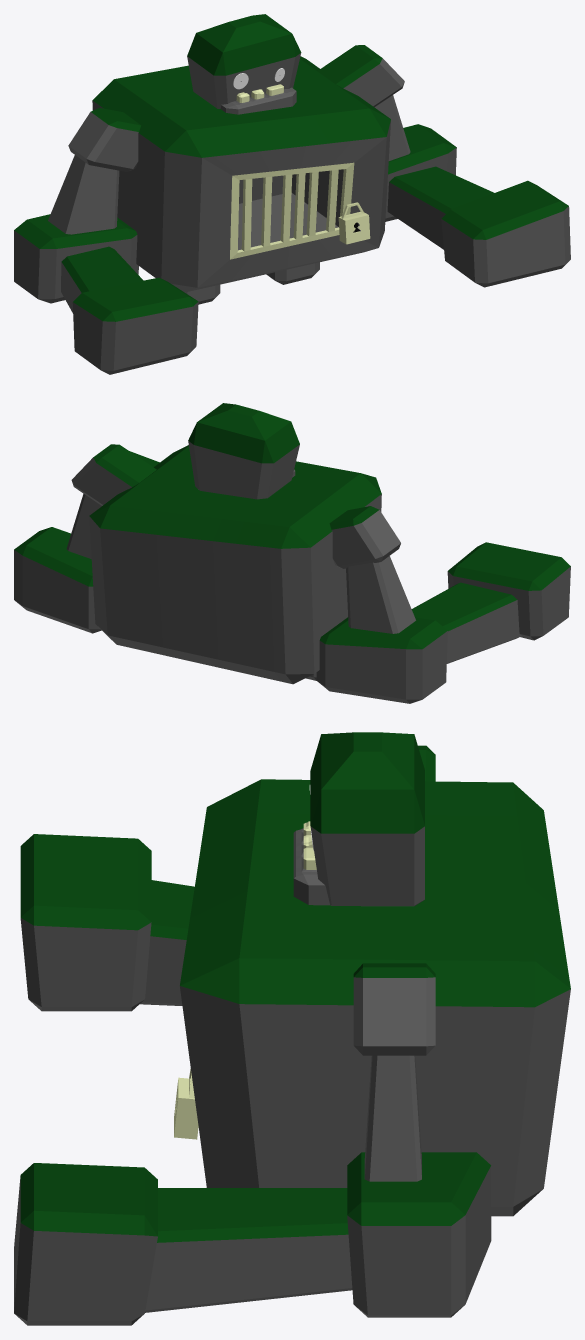
File: RestGoofy.fbx
3 renders of one model, top to bottom at view 1: azimuth 30°, elevation 25°; view 2: azimuth 150°, elevation 25°; view 3: azimuth 270°, elevation 25°, orthographic. The views are drawn at different scales.
Visible parts, largest first — view 1: Sphere.044, Sphere.043, Sphere.038, Sphere.036, Sphere.042, Sphere.035, Sphere.034, Sphere.039, Sphere.037, Sphere.041, Sphere.040; view 2: Sphere.044, Sphere.036, Sphere.038, Sphere.041, Sphere.037, Sphere.035, Sphere.034, Sphere.039, Sphere.040; view 3: Sphere.044, Sphere.042, Sphere.038, Sphere.043, Sphere.041, Sphere.039, Sphere.040, Sphere.037.
Boxes of the visible parts, x1,y1,x2,y2 form: Sphere.044: (92, 14, 390, 304); Sphere.043: (441, 180, 570, 287); Sphere.038: (72, 277, 198, 374); Sphere.036: (14, 214, 138, 303); Sphere.042: (387, 166, 493, 249); Sphere.035: (48, 155, 119, 234); Sphere.034: (68, 108, 140, 171); Sphere.039: (318, 45, 404, 107); Sphere.037: (61, 246, 143, 313); Sphere.041: (385, 124, 456, 221); Sphere.040: (374, 95, 410, 160); Sphere.044: (89, 403, 381, 684); Sphere.036: (316, 617, 447, 703); Sphere.038: (447, 542, 570, 640); Sphere.041: (14, 527, 101, 633); Sphere.037: (411, 582, 521, 663); Sphere.035: (346, 556, 415, 633); Sphere.034: (329, 506, 400, 568); Sphere.039: (71, 444, 156, 505); Sphere.040: (66, 493, 101, 558); Sphere.044: (174, 732, 570, 1216); Sphere.042: (145, 1188, 352, 1312); Sphere.038: (20, 834, 151, 1011); Sphere.043: (14, 1163, 157, 1325); Sphere.041: (347, 1152, 491, 1317); Sphere.039: (353, 963, 435, 1055); Sphere.040: (364, 1055, 421, 1181); Sphere.037: (140, 880, 194, 1005).
Size of the model in its own units: 2889 by 1536 by 1720.
